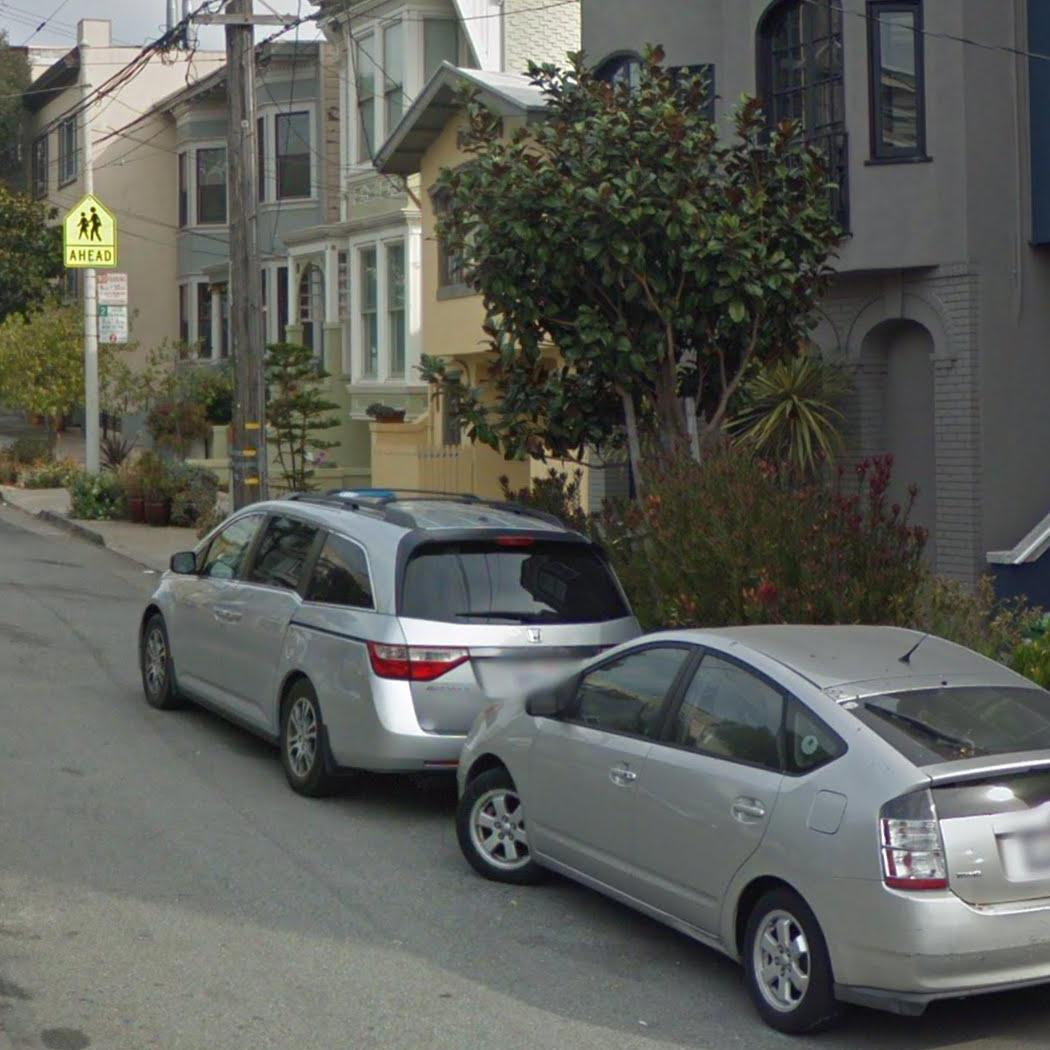2 Hour Parking: (97, 305, 130, 345)
No Parking: (95, 271, 129, 305)
